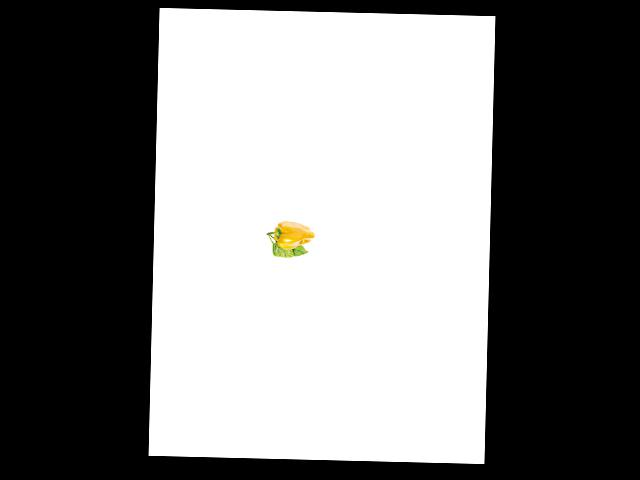bell_pepper: (265, 218, 316, 251)
